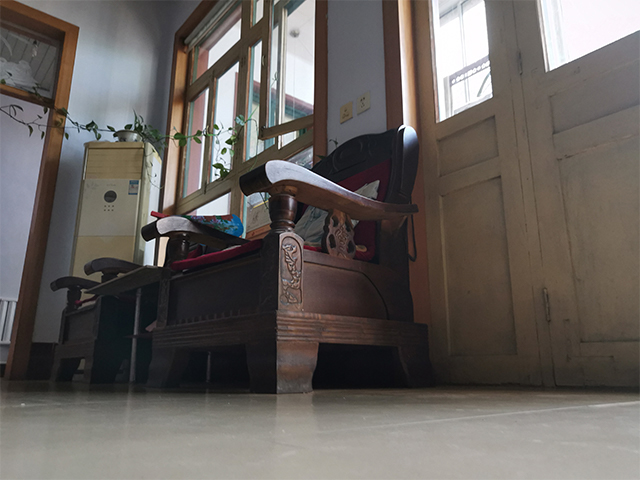stool: (139, 124, 440, 396), (49, 256, 145, 387)
table: (82, 264, 214, 386)
